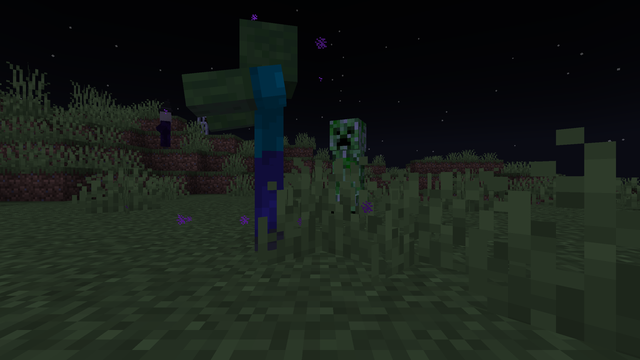creepers: (330, 113, 368, 217)
sorcieres: (155, 109, 174, 141)
squelettes: (196, 100, 211, 129)
zombies: (226, 24, 301, 251)
